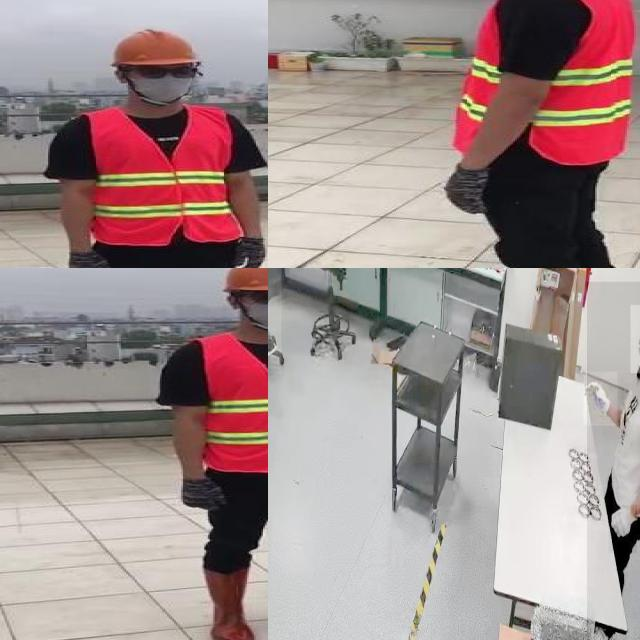boots: (195, 567, 255, 640)
face_mask: (126, 64, 198, 100), (242, 288, 268, 330), (630, 304, 640, 373)
glasses: (129, 61, 203, 81), (244, 288, 268, 308)
hand_glove: (441, 164, 500, 215), (584, 372, 618, 426), (176, 477, 224, 508), (608, 505, 638, 554), (234, 236, 268, 268), (62, 249, 112, 268)
head_helmet: (110, 27, 203, 68), (214, 268, 268, 293)
person: (429, 0, 640, 268), (41, 24, 268, 268), (149, 268, 268, 640), (587, 281, 640, 640)
shoes: (268, 324, 277, 354)
vest: (440, 0, 635, 166), (87, 107, 244, 241), (197, 333, 268, 473)
